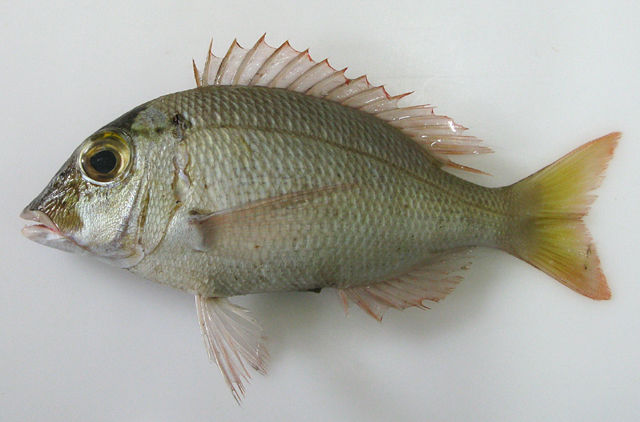fish: (18, 32, 624, 405)
